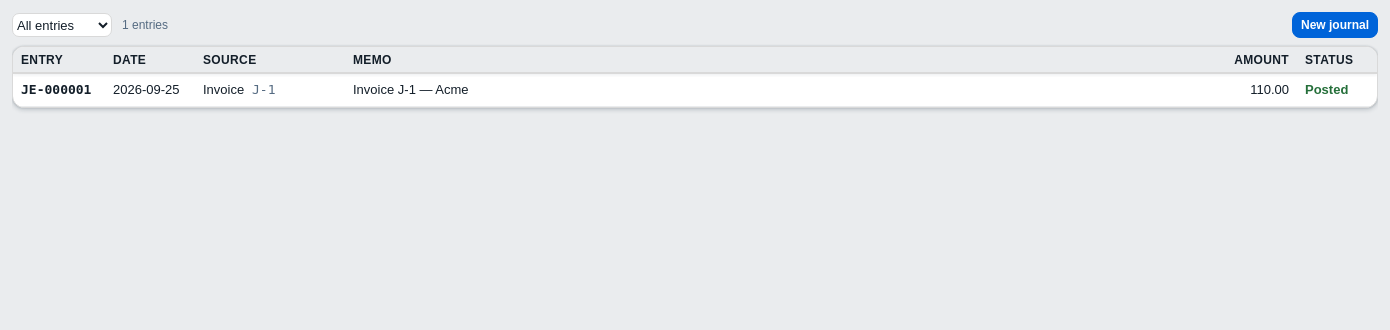
JournalsTab › an automatic entry points at its document and cannot be reversed here
Click the text "JE-000001". click: {"x": 56, "y": 90}
box: [21,80,92,100]
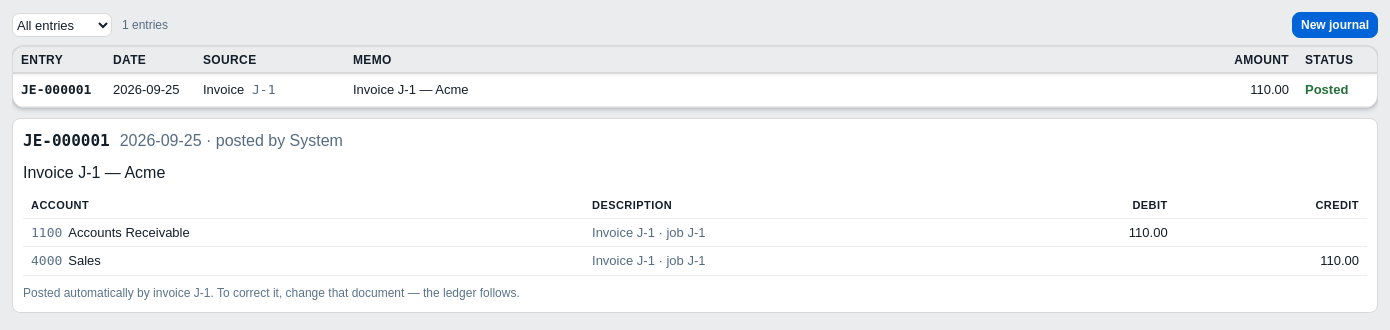
Check: the text "change that document" is shown, box [210,286,520,300]
